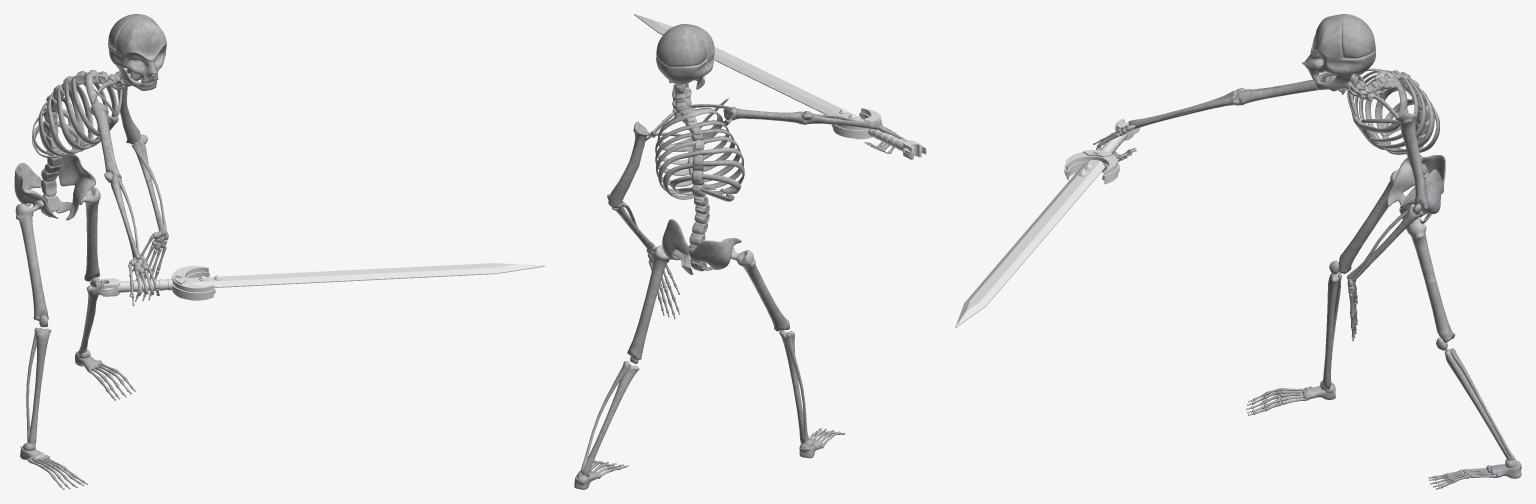
File: SwordSkeleton pose.fbx
3 renders of one model, left to right at view 1: azimuth 30°, elevation 25°; view 2: azimuth 150°, elevation 25°; view 3: azimuth 270°, elevation 25°, orthographic. The views are drawn at different scales.
Visible parts, largest first — view 1: Cube.002, handle; view 2: Cube.002, handle; view 3: Cube.002, handle.
Boxes of the visible parts, x1,y1,x2,y2 form: Cube.002: (14,14,168,489); handle: (96,263,545,300); Cube.002: (574,24,906,489); handle: (634,14,926,159); Cube.002: (1093,14,1521,489); handle: (955,119,1140,327).
Size of the model in its own units: 1.63 by 1.76 by 1.99.
